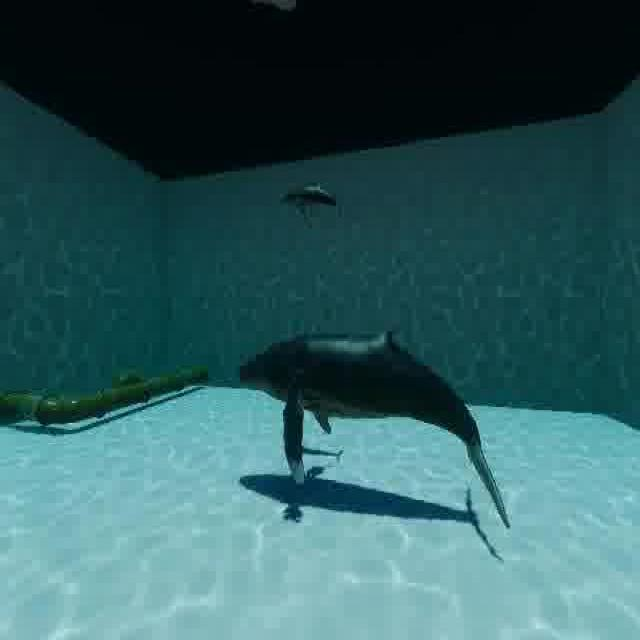Pipe: (0, 361, 210, 442)
Whale: (231, 310, 526, 546), (270, 162, 345, 232)
